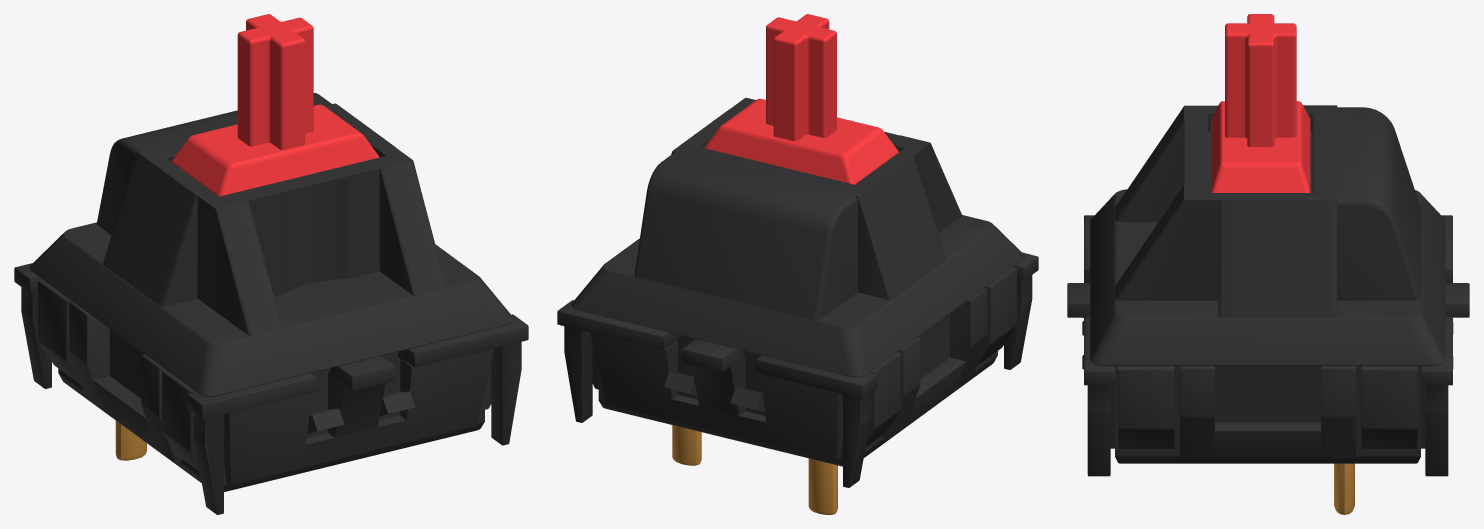
Rendered from switch.glb.
The picture shows the model from 3 angles, left to right: view 1: azimuth 30°, elevation 25°; view 2: azimuth 150°, elevation 25°; view 3: azimuth 270°, elevation 25°; orthographic projection. The views are drawn at different scales.
Parts seen in each view (by area): view 1: Switch_base, Switch_head; view 2: Switch_base, Switch_head; view 3: Switch_base, Switch_head.
Part boxes in pixels (x1,y1,x2,y2): Switch_base: (14, 93, 528, 514); Switch_head: (171, 14, 379, 196); Switch_base: (557, 97, 1038, 514); Switch_head: (704, 14, 898, 184); Switch_base: (1067, 105, 1469, 514); Switch_head: (1211, 14, 1310, 192).
Size of the model in its own units: 0.0166 by 0.022 by 0.0181.
